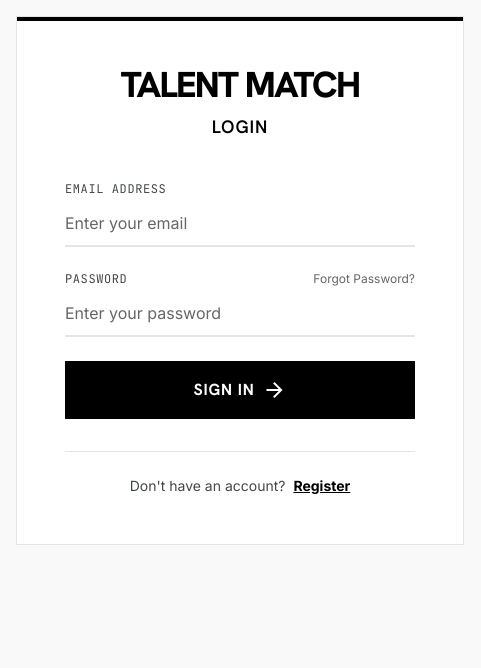
it: Login Error Mapping › displays connection error message when server is unreachable (no err.response)
In the field with placeholder "Enter your email": x=240, y=224 [65,201,415,247], type "user@talentmatch.com"
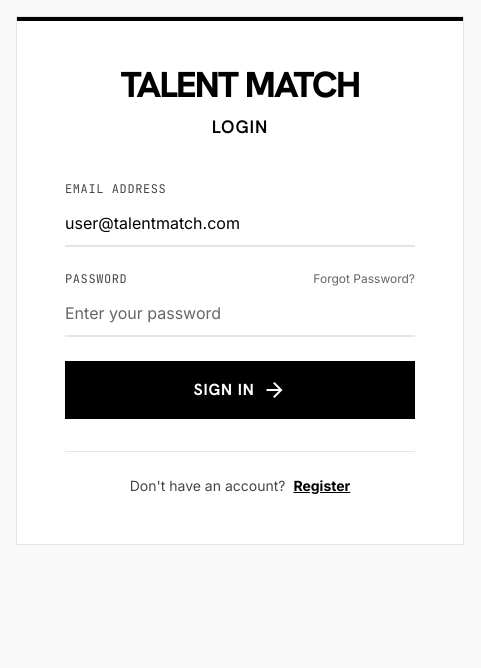
In the password field with placeholder "Enter your password": x=240, y=314 [65,291,415,337], type "password123"
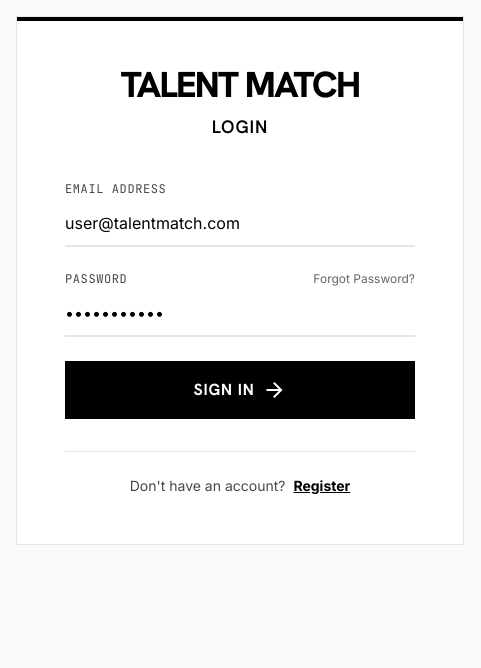
Click the button "SIGN IN": x=240, y=390 [65,361,415,419]
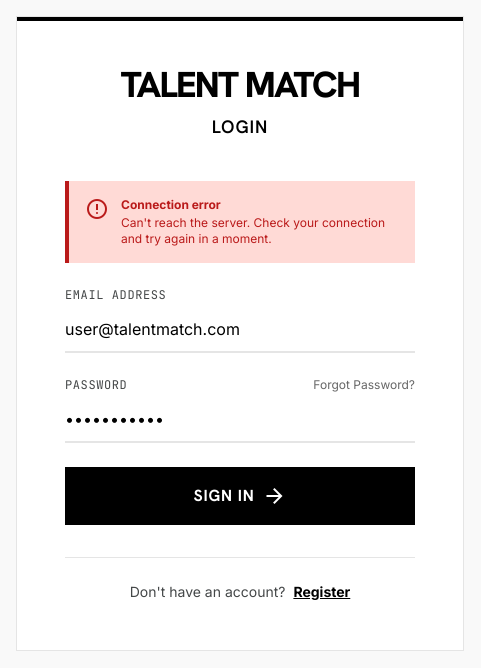
Check: the text "Can't reach the server. Check your connection and try again in a moment." is shown, box [121,215,399,247]
